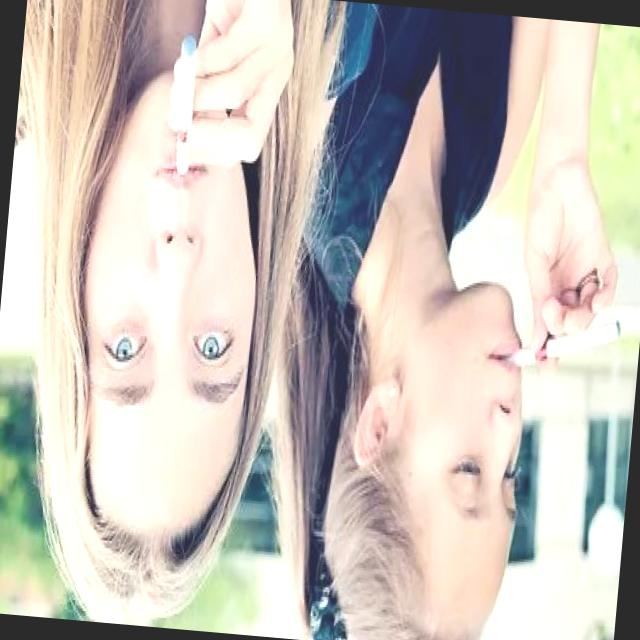cigarette: (504, 310, 622, 378), (165, 26, 204, 180)
